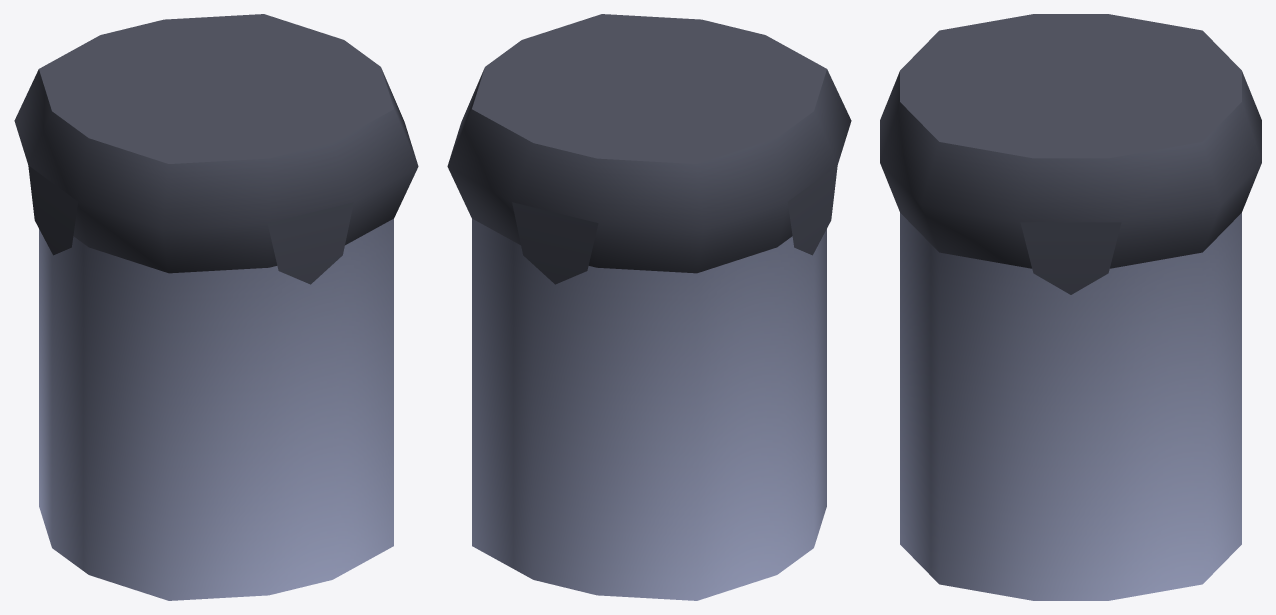
Rendered from block-snow-overhang-narrow.glb.
3 renders of one model, left to right at view 1: azimuth 30°, elevation 25°; view 2: azimuth 150°, elevation 25°; view 3: azimuth 270°, elevation 25°, orthographic.
Visible parts, largest first — view 1: block-snow-overhang-narrow; view 2: block-snow-overhang-narrow; view 3: block-snow-overhang-narrow.
Boxes of the visible parts, x1,y1,x2,y2 form: block-snow-overhang-narrow: (14, 14, 418, 600); block-snow-overhang-narrow: (447, 14, 851, 600); block-snow-overhang-narrow: (880, 14, 1261, 600).
Bounding box in the file's own units: 0.7821 × 1 × 0.7821.
